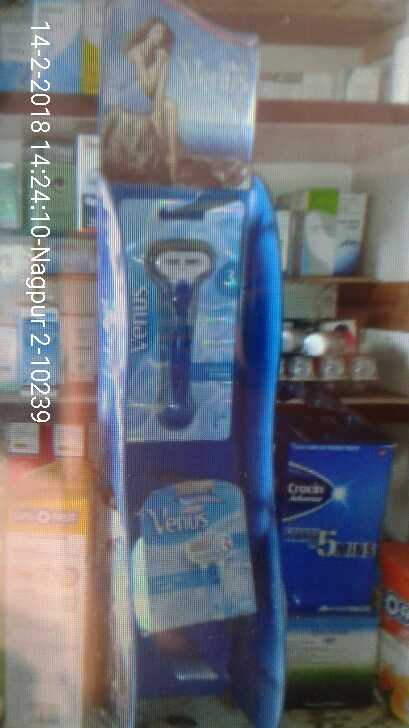venus: (119, 198, 232, 444), (136, 479, 262, 623)
